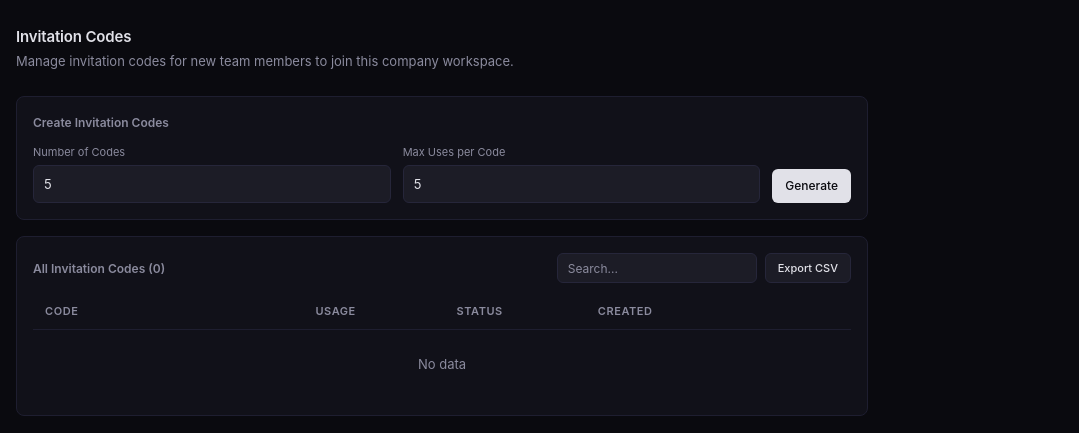
Scenario: InvitationCodes recovery › announces a successful member invitation-code batch
Click the button "Generate". click: coordinates (812, 186)
box: x1=772 y1=169 x2=851 y2=203
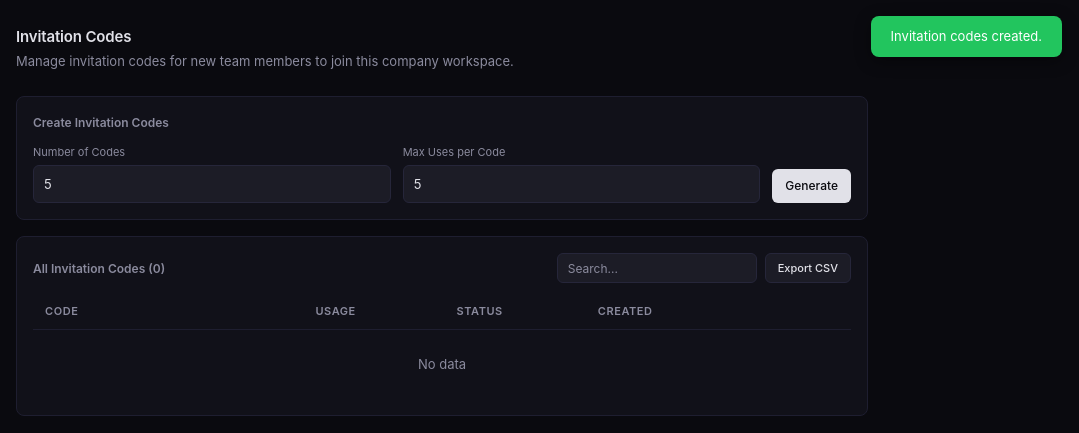
Expected: the message reads "Invitation codes created.", x1=891 y1=28 x2=1042 y2=44
